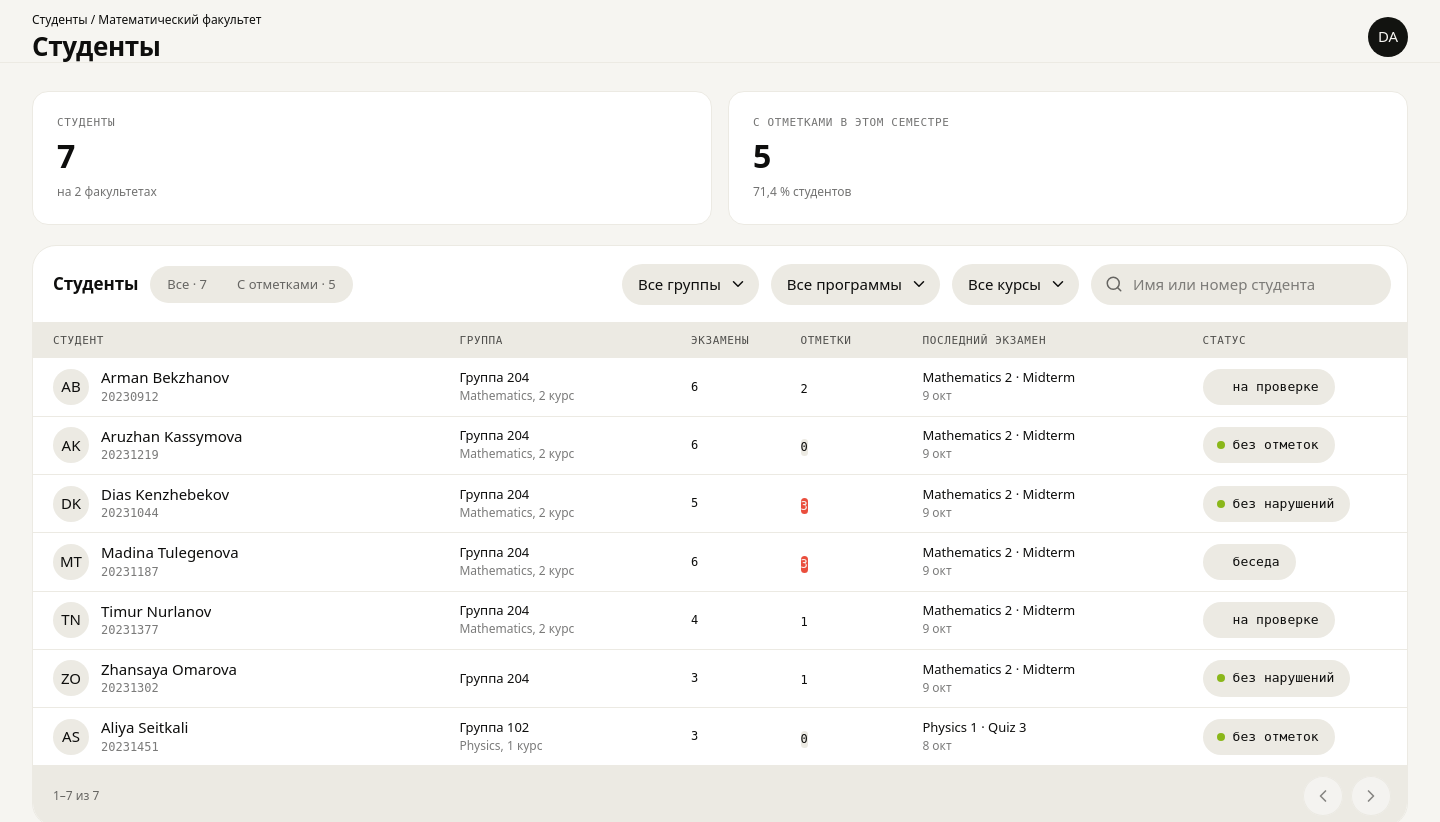
Test: WP 1.11 pages in Russian › renders A.2 with its tiles, tabs, filters, rows and footer
Expected: the heading "Студенты" below "Студенты / Математический факультет" is shown, [32,31,160,62]
Expected: the radio button labelled "Все · 7" is shown, [153,269,221,300]
Press the mouse on the button "Все курсы" at (1016,284), box [952,264,1079,305]
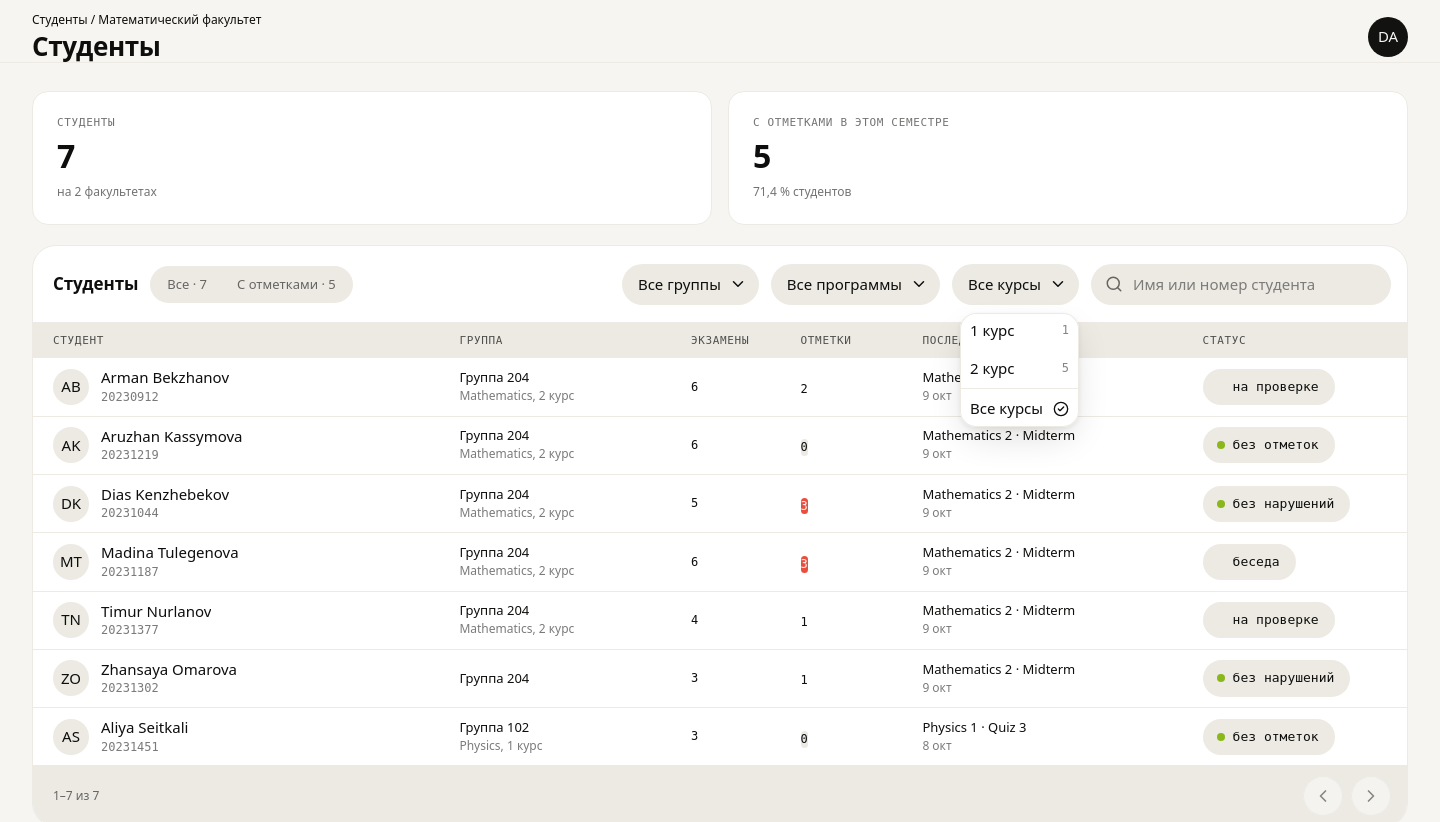
Expected: the menu item "1 курс 1" is shown, [970,320,1069,340]
Expected: the menu item "Все курсы" is shown, [970,398,1069,418]
